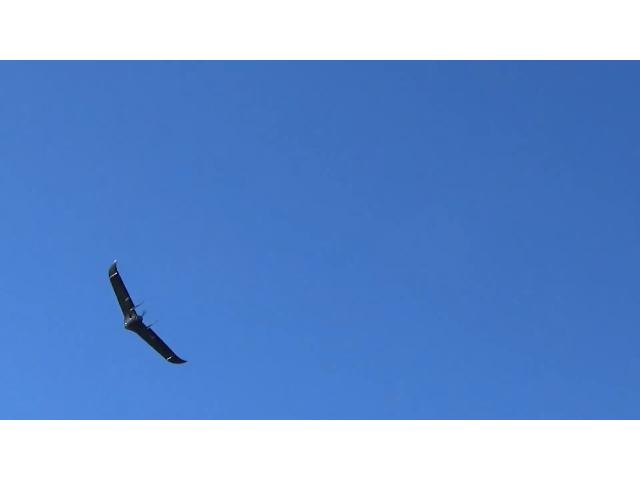Anti-Drone: (91, 248, 197, 368)
